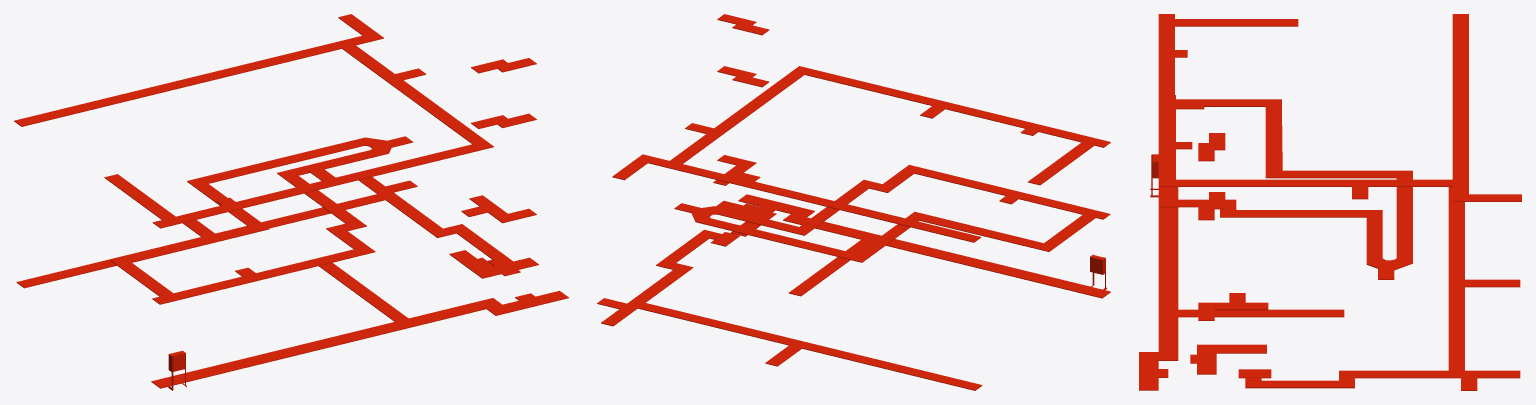
The model's file is P2_Safety_route.fbx.
3 views of the same model, side by side, from view 1: azimuth 30°, elevation 25°; view 2: azimuth 150°, elevation 25°; view 3: azimuth 270°, elevation 25° (orthographic). The views are drawn at different scales.
Parts seen in each view (by area): view 1: P2_Safety_route; view 2: P2_Safety_route; view 3: P2_Safety_route.
Boxes of the visible parts, bbox=[...] form: P2_Safety_route: bbox=[14, 14, 568, 390]; P2_Safety_route: bbox=[597, 14, 1110, 390]; P2_Safety_route: bbox=[1139, 14, 1521, 390].
Bounding box in the file's own units: 3005 × 1555 × 2353.
